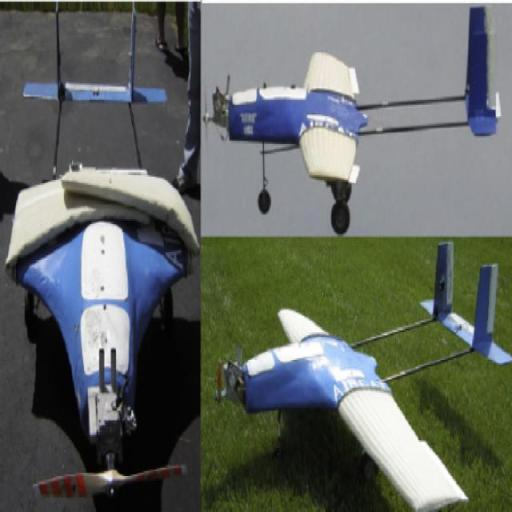uav: (207, 237, 512, 512)
